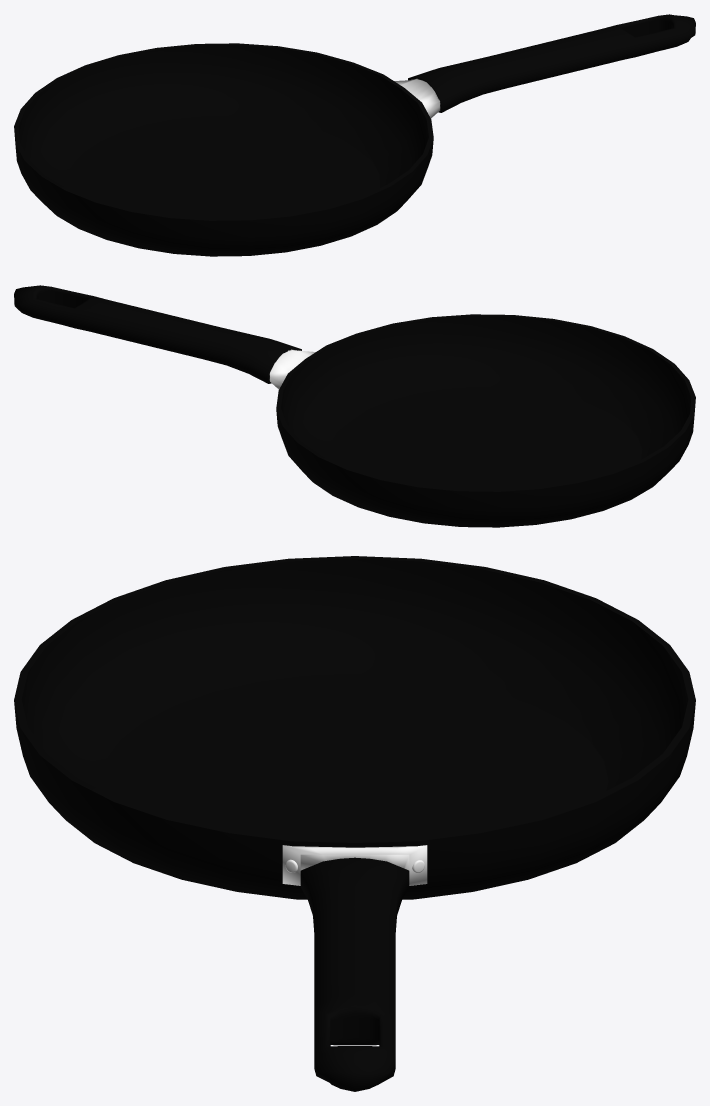
The model's file is sarten.fbx.
3 renders of one model, top to bottom at view 1: azimuth 30°, elevation 25°; view 2: azimuth 150°, elevation 25°; view 3: azimuth 270°, elevation 25°, orthographic. The views are drawn at different scales.
Parts seen in each view (by area): view 1: Circle; view 2: Circle; view 3: Circle.
Part boxes in pixels (x1,y1,x2,y2): Circle: [14, 14, 695, 256]; Circle: [14, 285, 695, 527]; Circle: [14, 556, 695, 1091].
Bounding box in the file's own units: 3.55 × 0.3144 × 1.98.
Materials: 1 (1 with a texture image).
